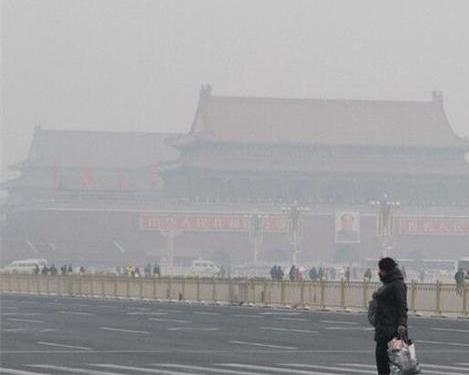car: (6, 260, 44, 279), (190, 258, 221, 274)
person: (366, 256, 409, 375)
